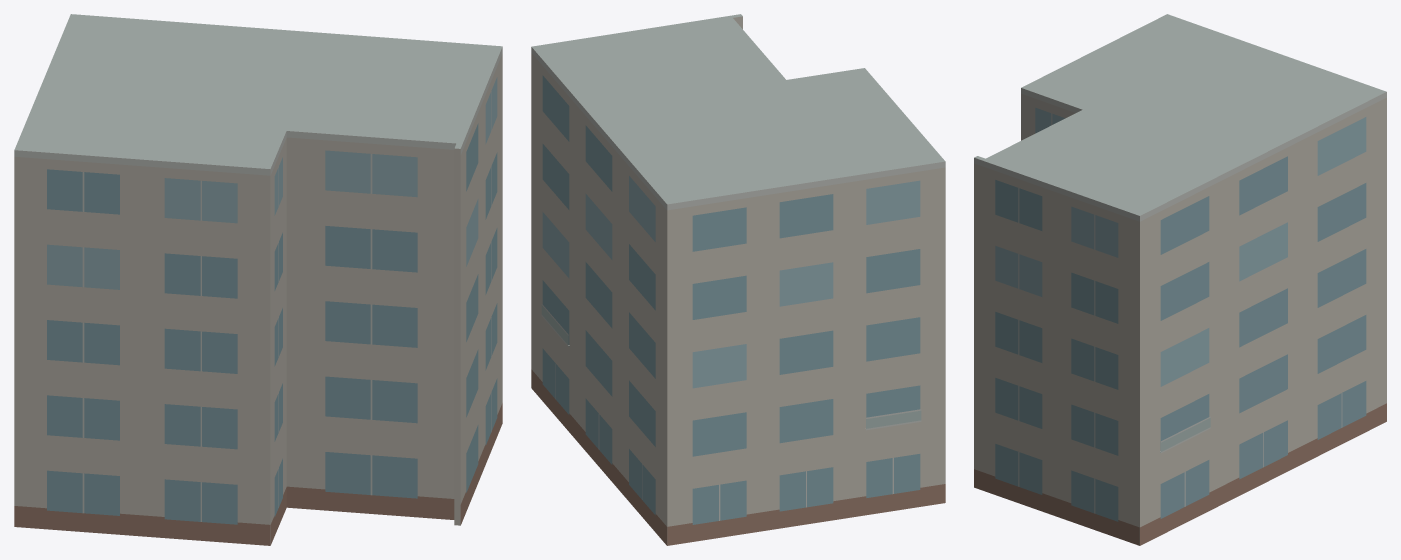
File: survey-upis-32749773.glb
The picture shows the model from 3 angles, left to right: view 1: azimuth 30°, elevation 25°; view 2: azimuth 150°, elevation 25°; view 3: azimuth 270°, elevation 25°; orthographic projection. The views are drawn at different scales.
Visible parts, largest first — view 1: survey-upis-32749773.tmp; view 2: survey-upis-32749773.tmp; view 3: survey-upis-32749773.tmp.
Part boxes in pixels (x1,y1,x2,y2): survey-upis-32749773.tmp: (14, 14, 502, 545); survey-upis-32749773.tmp: (531, 14, 945, 545); survey-upis-32749773.tmp: (974, 14, 1386, 545).
Bounding box in the file's own units: 18.39 × 14 × 15.88.
